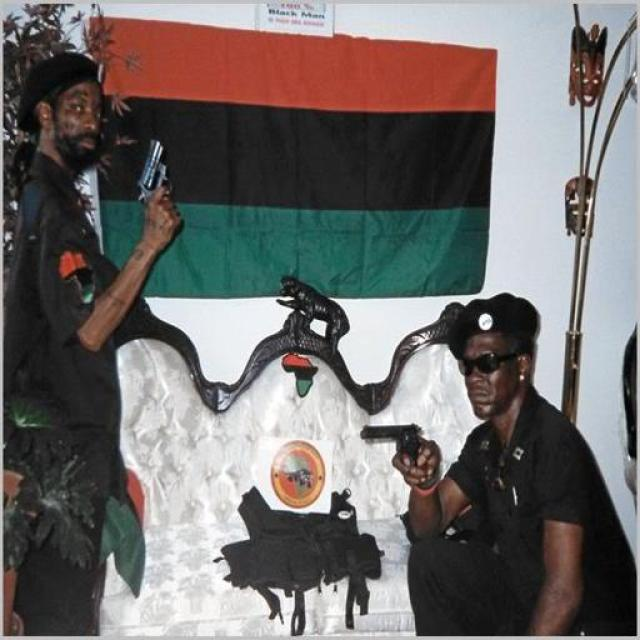pistol: (131, 139, 179, 204), (360, 422, 424, 470)
